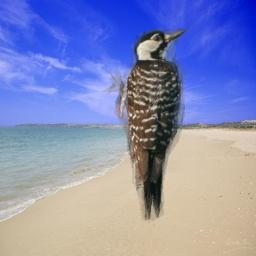Woodpecker: (102, 29, 190, 230)
